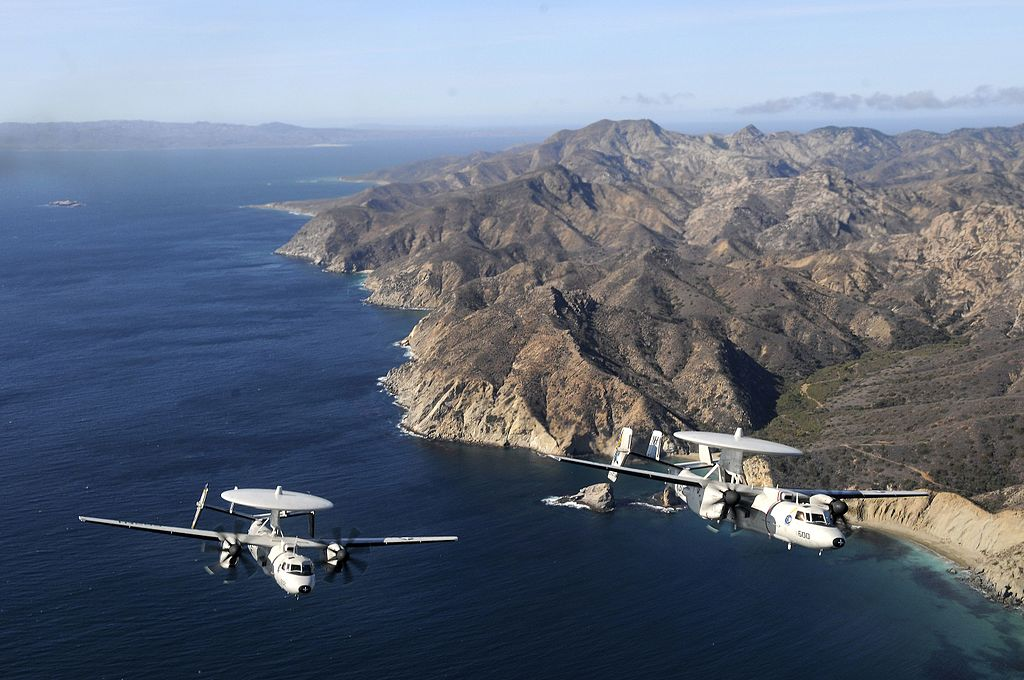E2: (549, 426, 929, 557), (79, 482, 459, 600)
